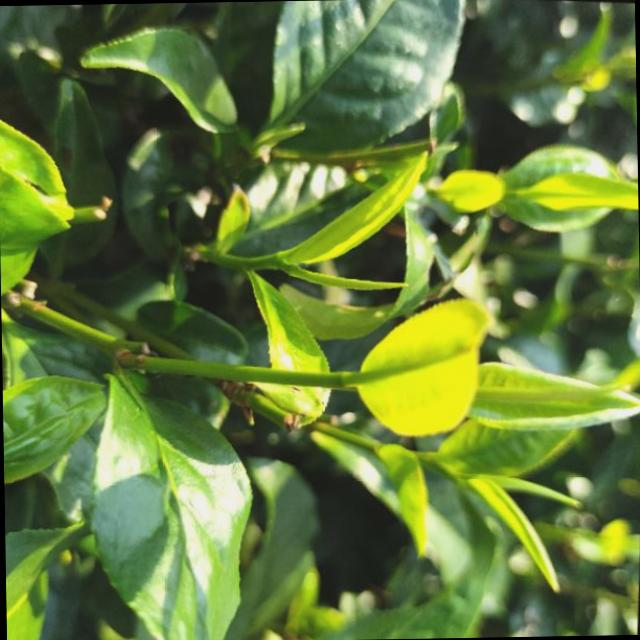Stem: (258, 254, 280, 268), (320, 373, 339, 386), (419, 452, 434, 464)
